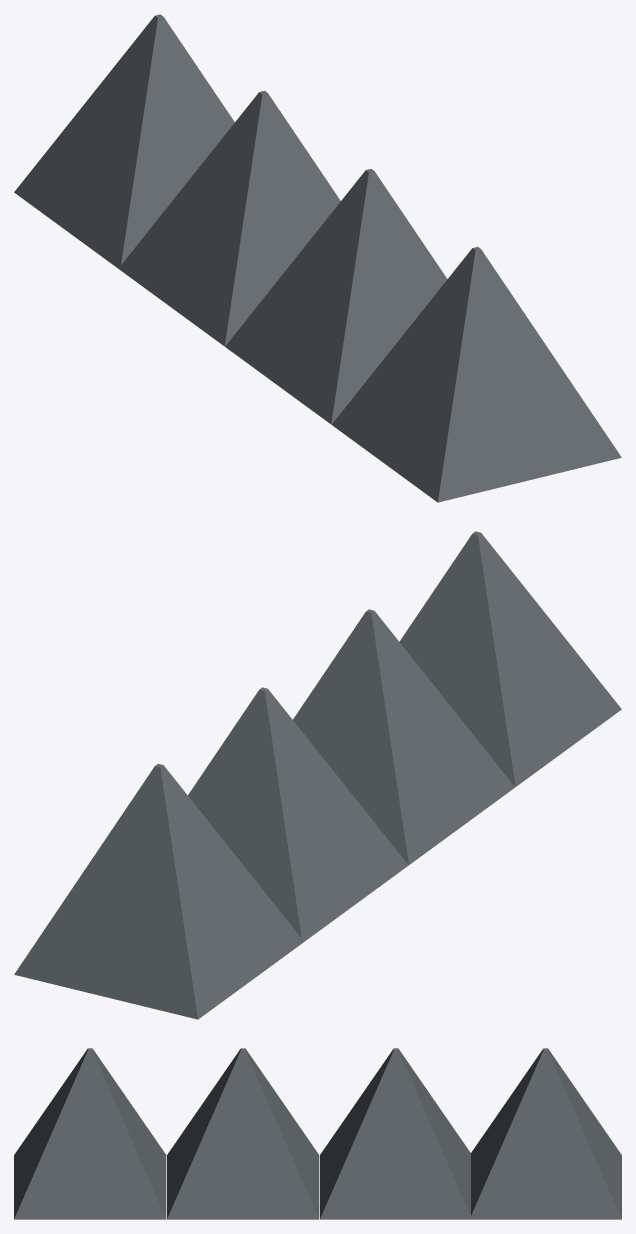
The model's file is spike.glb.
3 renders of one model, top to bottom at view 1: azimuth 30°, elevation 25°; view 2: azimuth 150°, elevation 25°; view 3: azimuth 270°, elevation 25°, orthographic. The views are drawn at different scales.
Visible parts, largest first — view 1: Cube, Cube.001, Cube.002, Cube.003; view 2: Cube.003, Cube, Cube.001, Cube.002; view 3: Cube, Cube.001, Cube.002, Cube.003.
Part boxes in pixels (x1,y1,x2,y2): Cube: (332, 247, 621, 502); Cube.001: (225, 169, 447, 424); Cube.002: (118, 90, 340, 346); Cube.003: (14, 14, 234, 268); Cube.003: (14, 764, 302, 1019); Cube: (399, 531, 621, 786); Cube.001: (293, 609, 514, 864); Cube.002: (188, 687, 408, 942); Cube: (14, 1048, 166, 1219); Cube.001: (167, 1048, 319, 1219); Cube.002: (320, 1048, 471, 1219); Cube.003: (470, 1048, 621, 1219).
Size of the model in its own units: 2 by 2 by 7.97.
1 material, 1 textured.
